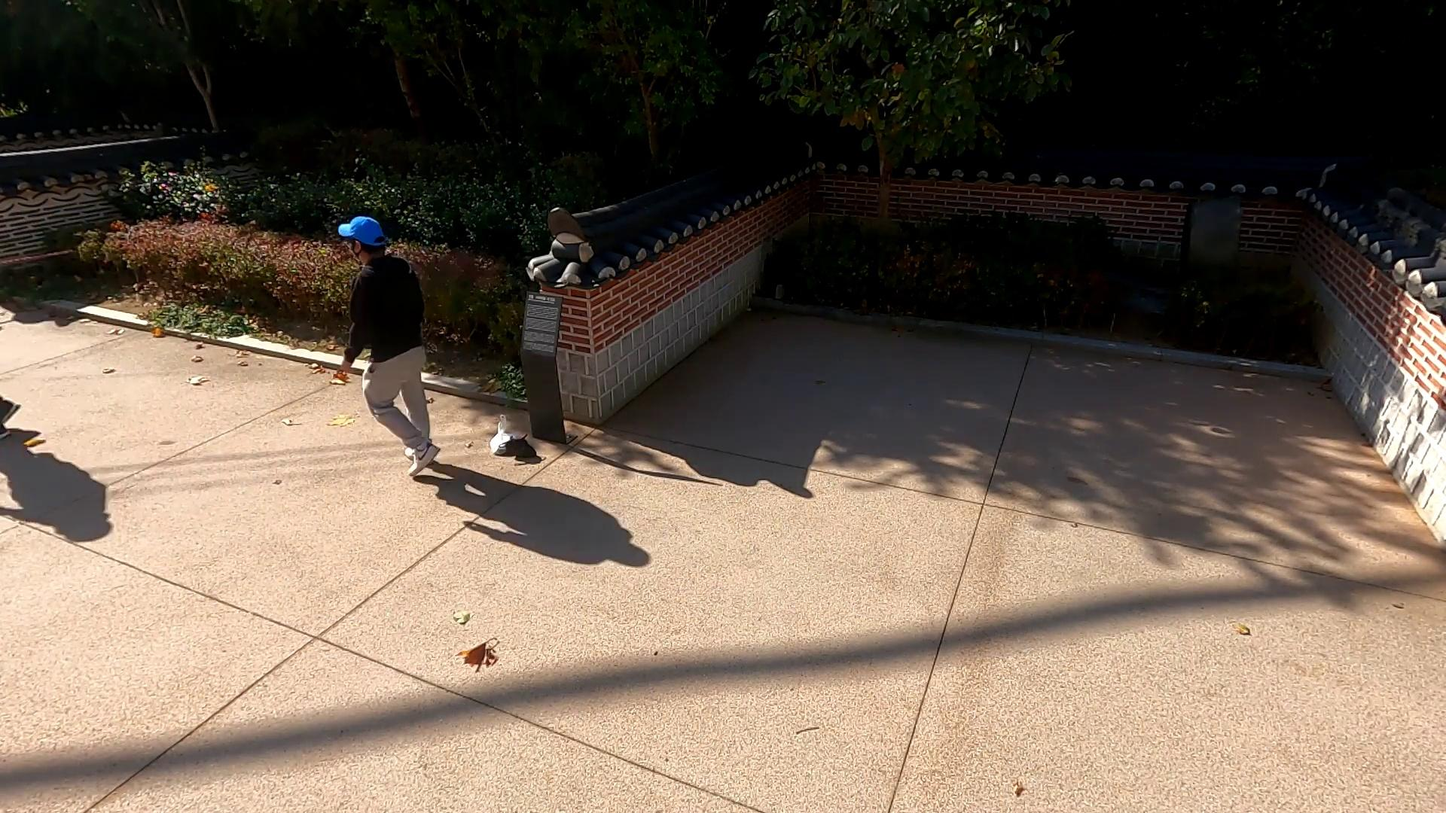person: (329, 212, 443, 484)
trash: (488, 410, 531, 456), (503, 435, 542, 468)
